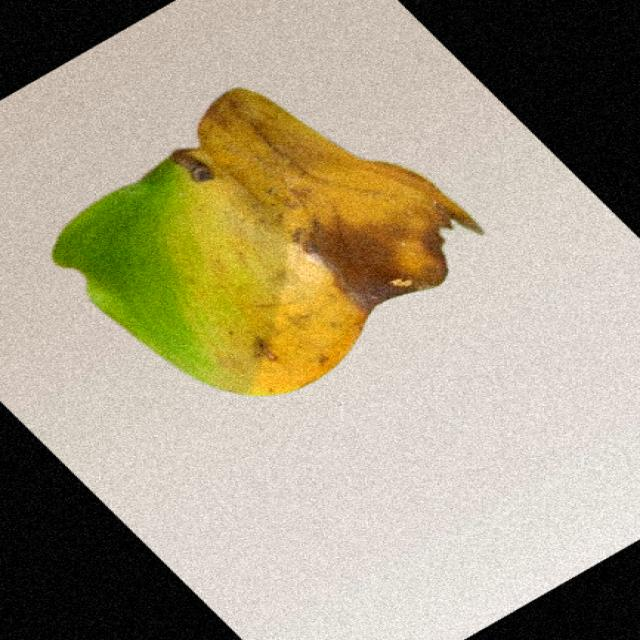daun berpenyakit kuning: (54, 89, 483, 396)
